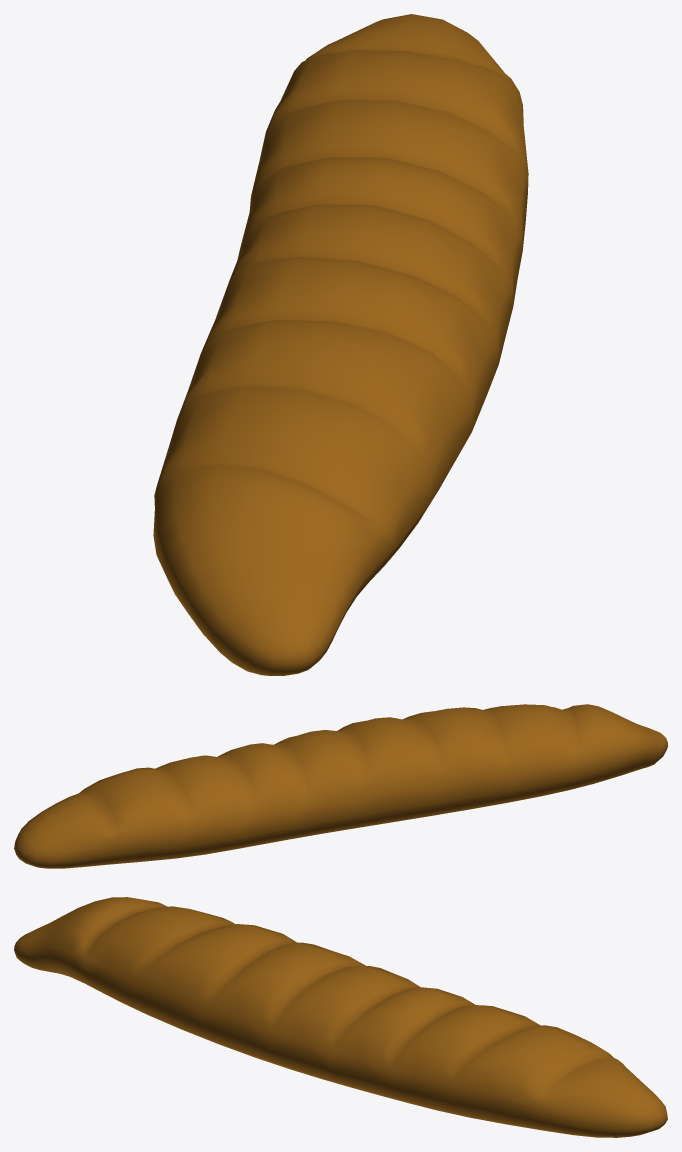
Rendered from Bread_LOD0.fbx.
3 views of the same model, one above another, from view 1: azimuth 30°, elevation 25°; view 2: azimuth 150°, elevation 25°; view 3: azimuth 270°, elevation 25° (orthographic). The views are drawn at different scales.
Parts seen in each view (by area): view 1: Bread; view 2: Bread; view 3: Bread.
Boxes of the visible parts, bbox=[...] form: Bread: bbox=[153, 14, 528, 675]; Bread: bbox=[14, 704, 667, 868]; Bread: bbox=[14, 897, 667, 1137].
Size of the model in its own units: 63.99 by 13.69 by 84.94.
